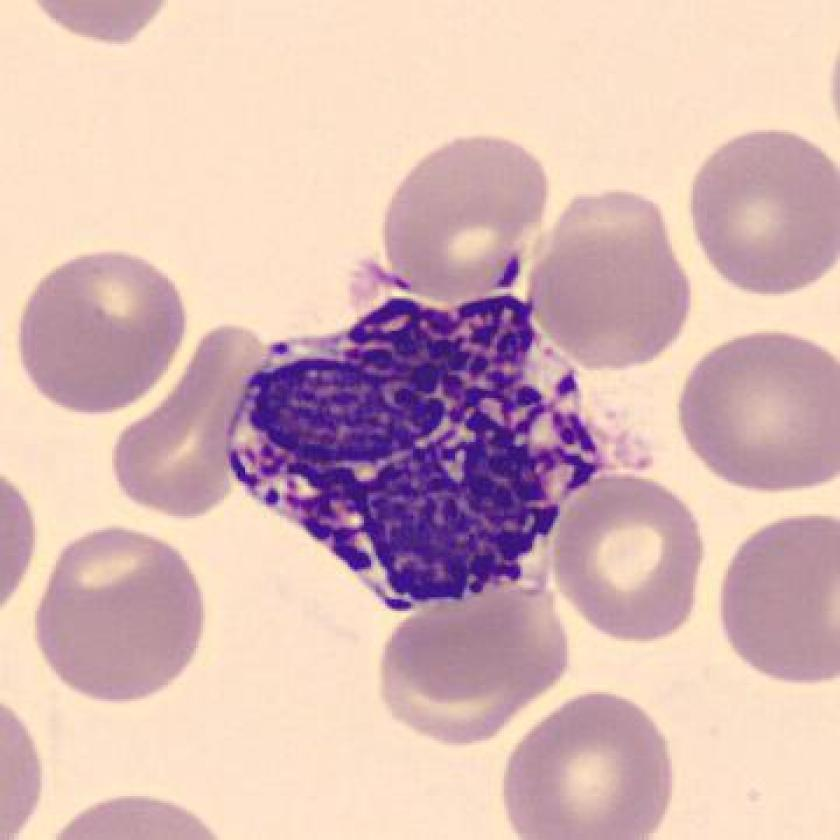basophil: (225, 288, 603, 612)
